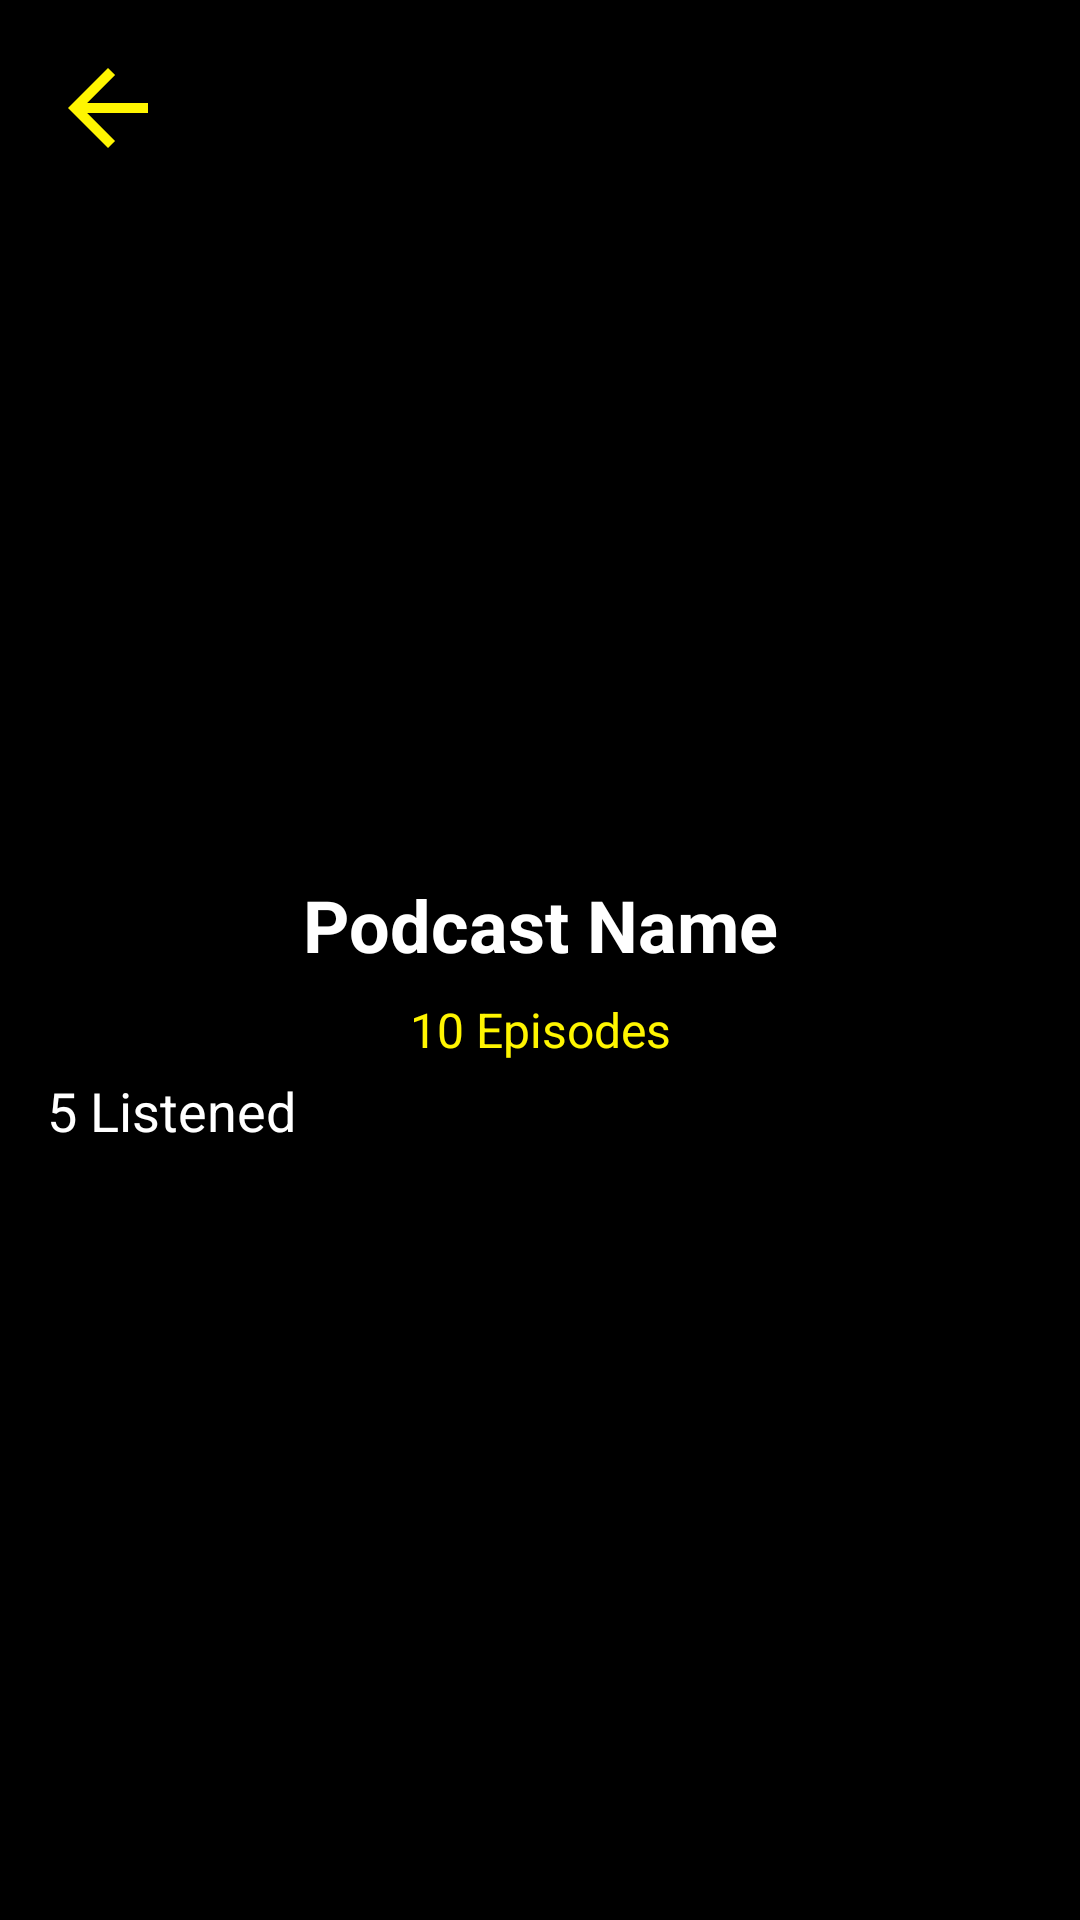

Icon click points for this 1080w x 1920h phone screenshot, format point (x, y):
out: point (108, 108)
